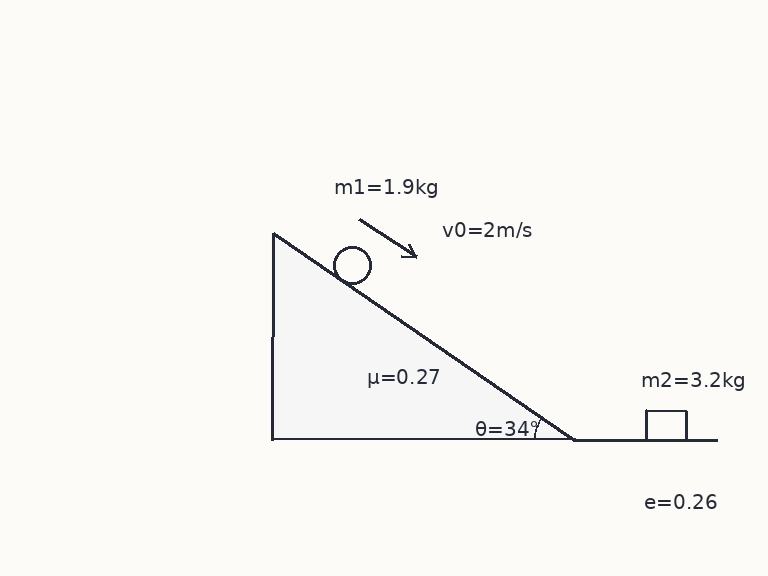ball: (331, 244, 373, 286)
block: (644, 408, 688, 441)
ramp: (270, 232, 577, 441)
